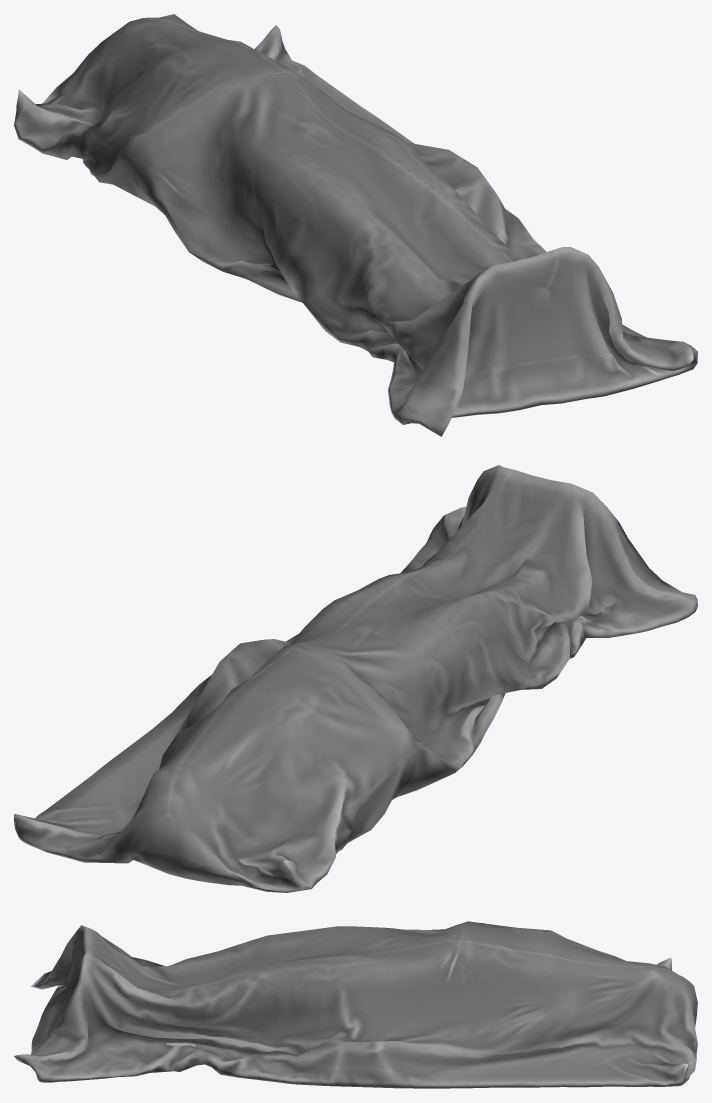
File: SM_Bodybag_3.FBX
3 views of the same model, one above another, from view 1: azimuth 30°, elevation 25°; view 2: azimuth 150°, elevation 25°; view 3: azimuth 270°, elevation 25° (orthographic). The views are drawn at different scales.
Parts seen in each view (by area): view 1: Bodybag_3; view 2: Bodybag_3; view 3: Bodybag_3.
Boxes of the visible parts, <box> form: Bodybag_3: <box>14,14,697,436</box>; Bodybag_3: <box>14,465,697,892</box>; Bodybag_3: <box>14,921,697,1088</box>.
Size of the model in its own units: 78.96 by 206 by 32.34.
